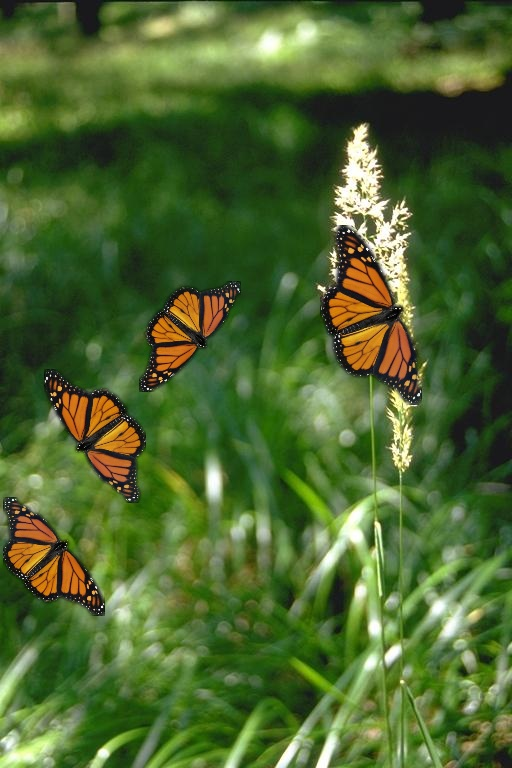danaus_plexippus: (320, 229, 422, 409), (44, 369, 146, 503), (3, 497, 105, 616), (139, 281, 241, 392)
